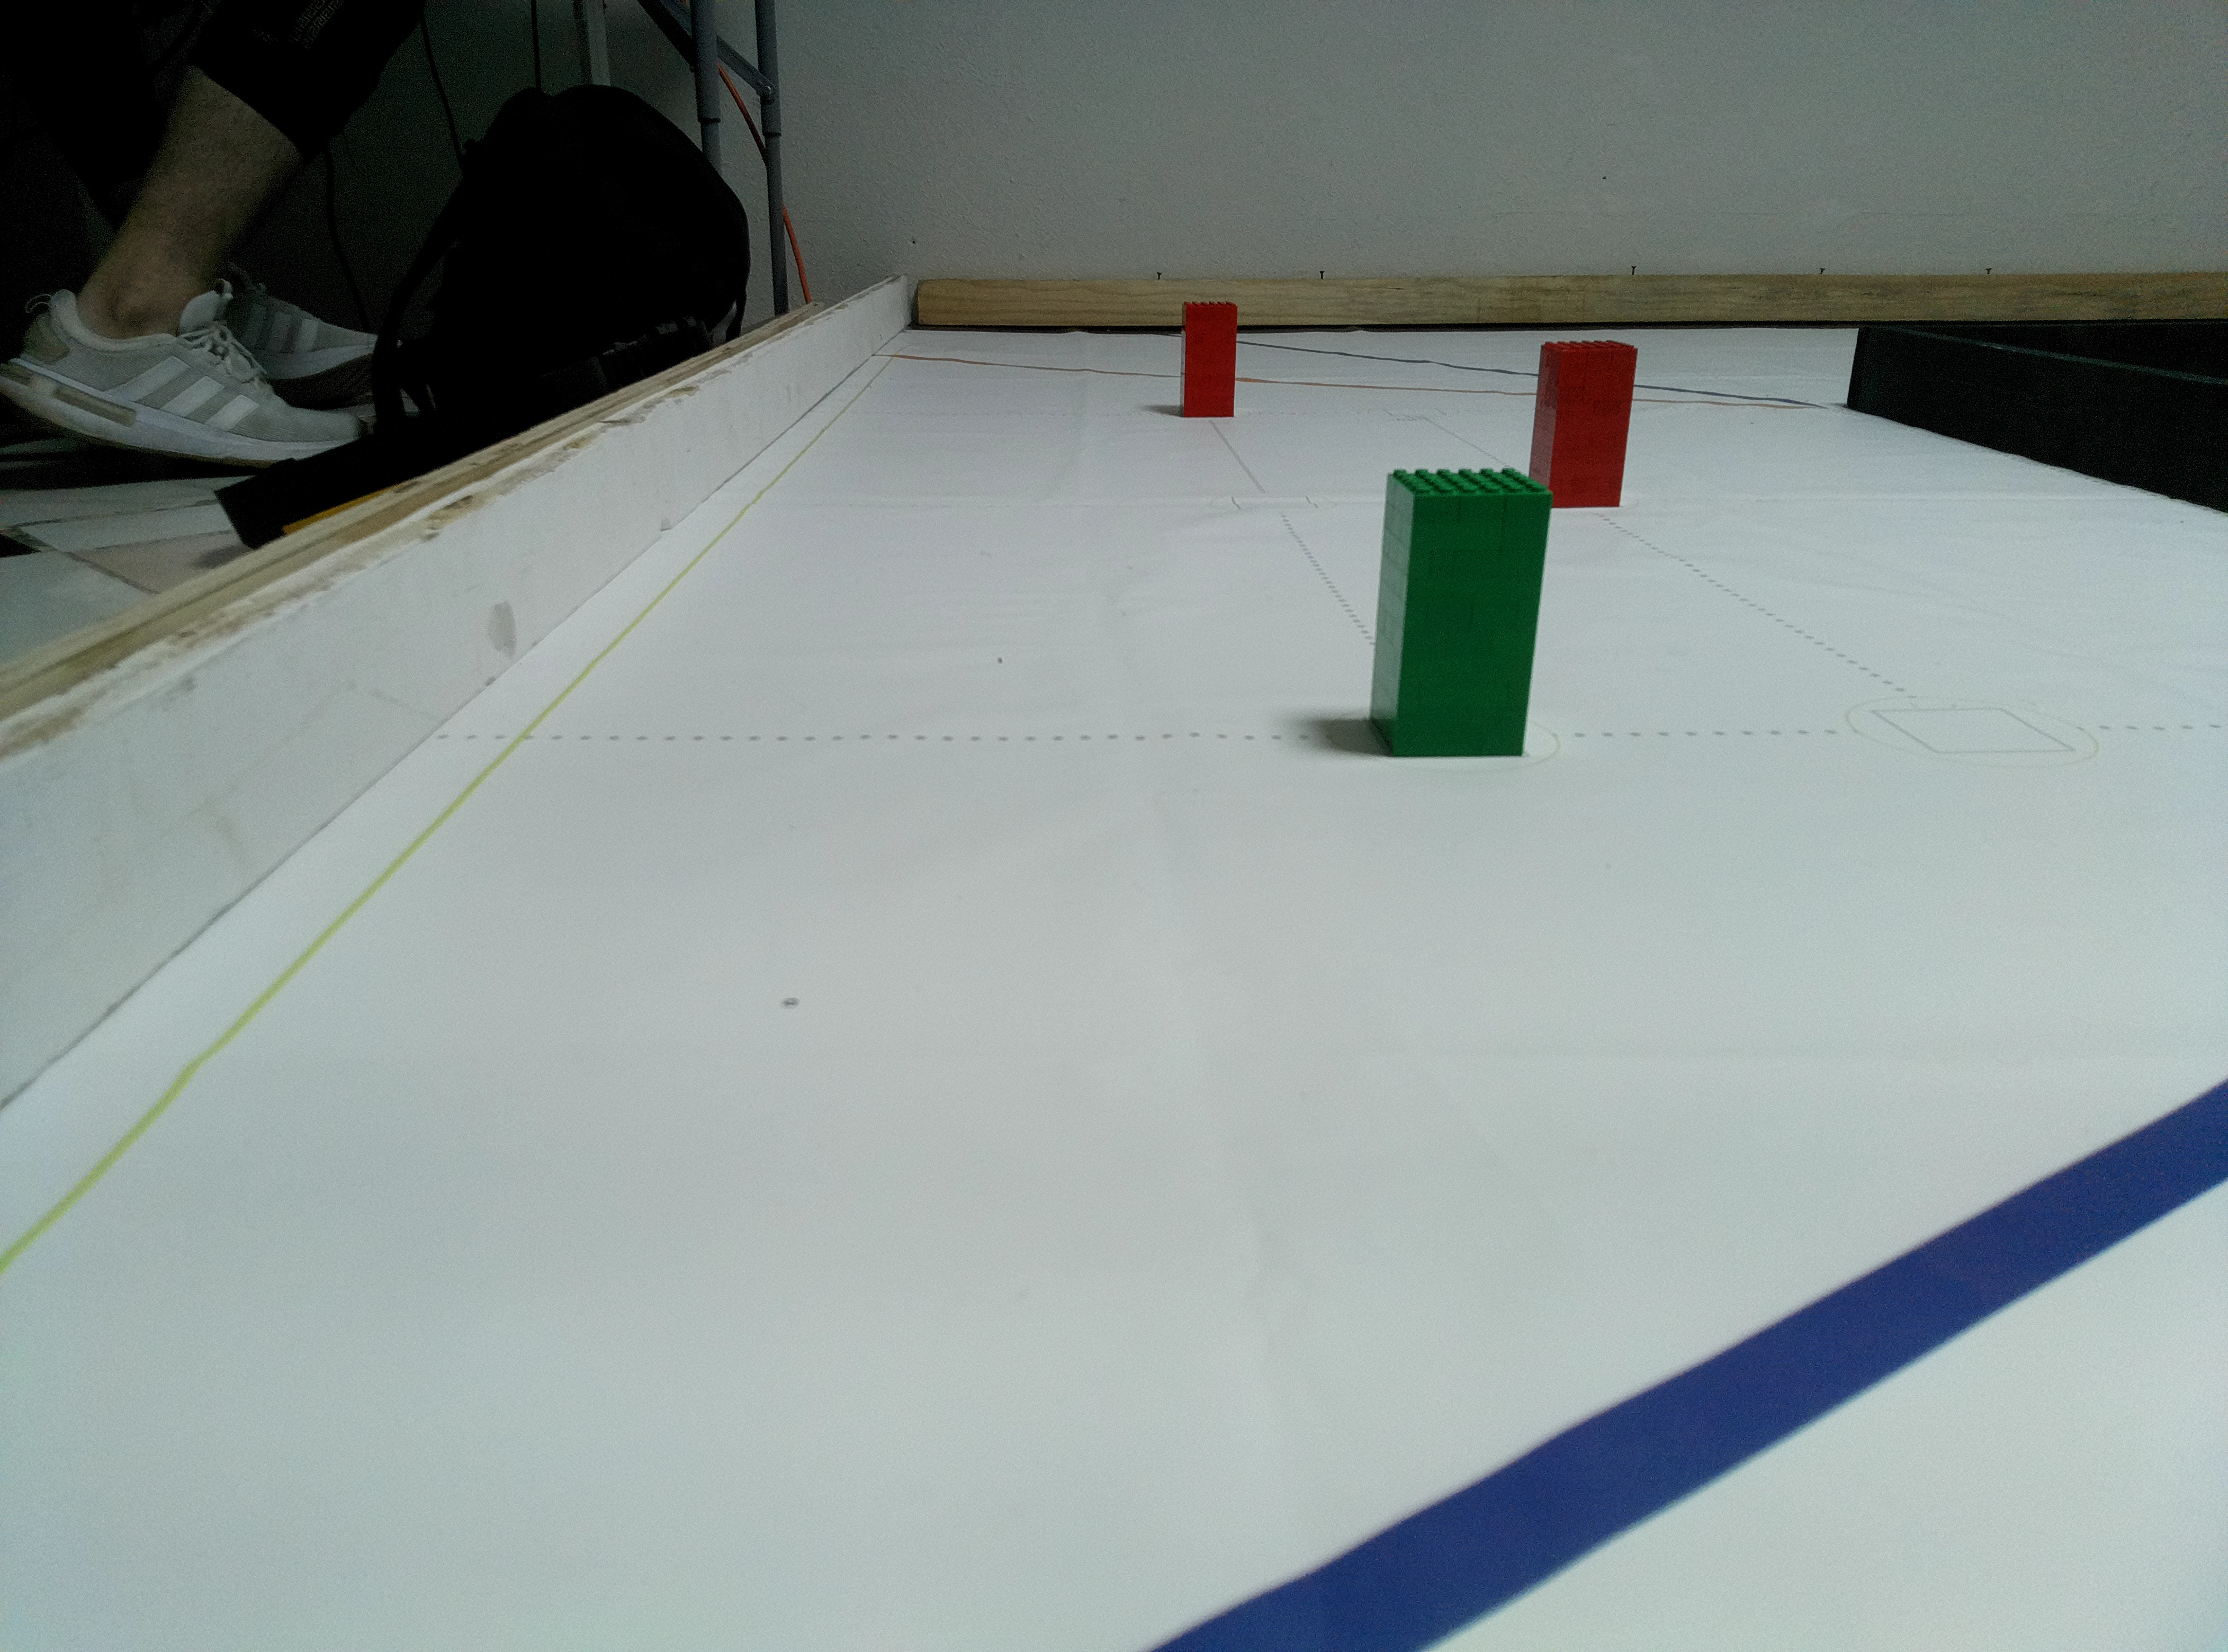greenbox: (1359, 458, 1555, 758)
redbox: (1527, 337, 1640, 510), (1180, 298, 1239, 418)
